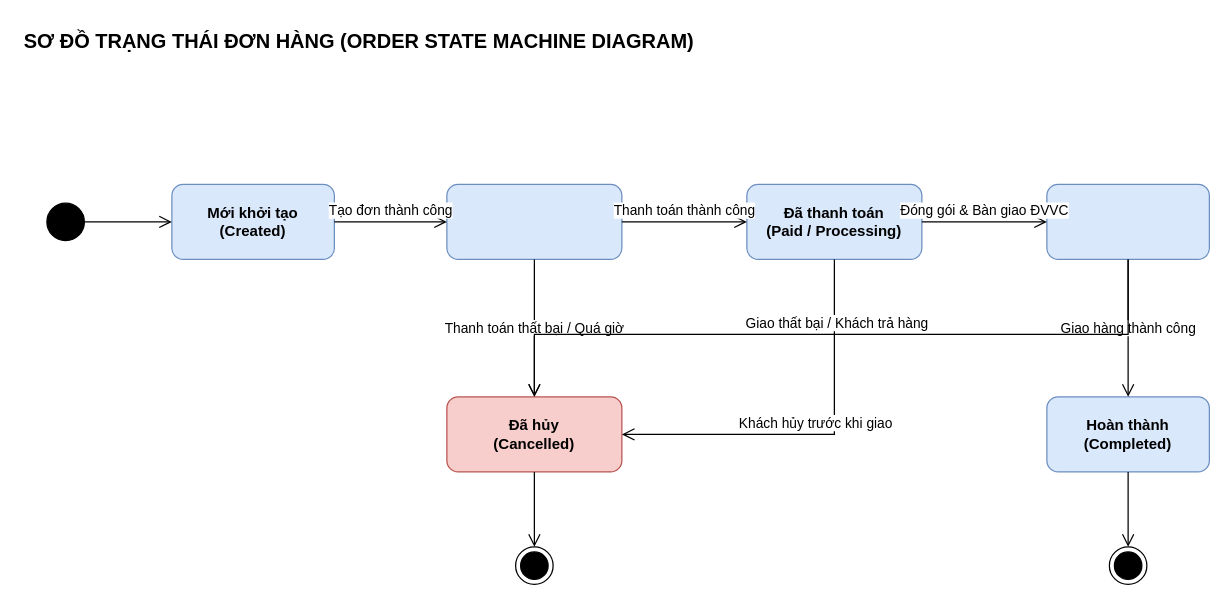
This 1231x606 diagram has some shape labels left out. The centre of each missing label's shape, as x and y in pixels:
Chờ thanh toán (Pending Payment): (x=534, y=221)
Đang giao hàng (Shipping): (x=1127, y=221)
